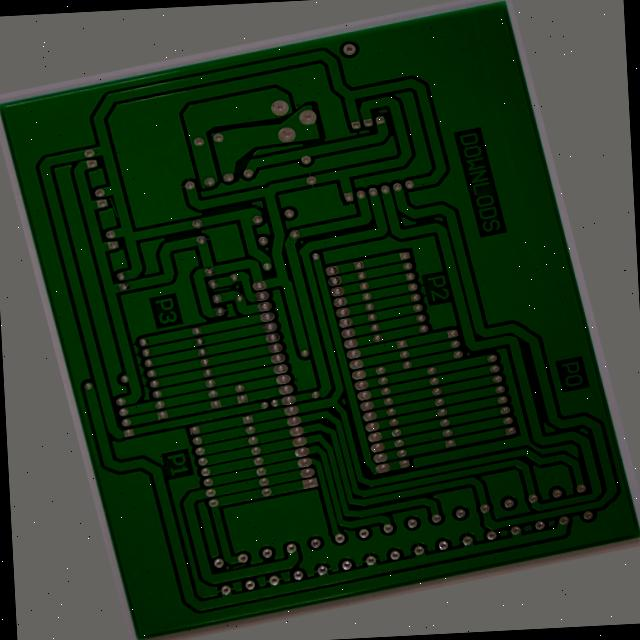spurious_copper: (97, 146, 111, 177), (198, 265, 225, 274), (153, 576, 173, 585)
